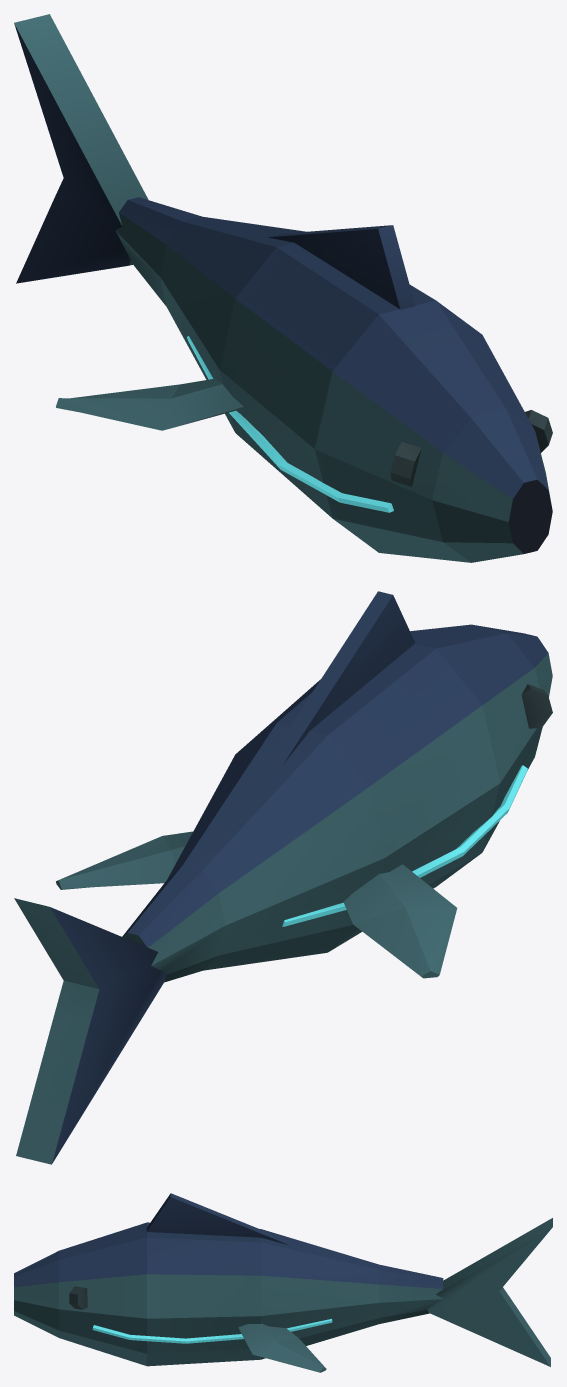
The model's file is ambient-pelagic-fish.glb.
3 views of the same model, one above another, from view 1: azimuth 30°, elevation 25°; view 2: azimuth 150°, elevation 25°; view 3: azimuth 270°, elevation 25° (orthographic). The views are drawn at different scales.
Visible parts, largest first — view 1: ambient-pelagic-fish; view 2: ambient-pelagic-fish; view 3: ambient-pelagic-fish.
Part boxes in pixels (x1,y1,x2,y2): ambient-pelagic-fish: (14, 14, 552, 562); ambient-pelagic-fish: (14, 591, 552, 1164); ambient-pelagic-fish: (14, 1193, 552, 1372).
Bounding box in the file's own units: 1.12 × 0.86 × 2.51.
